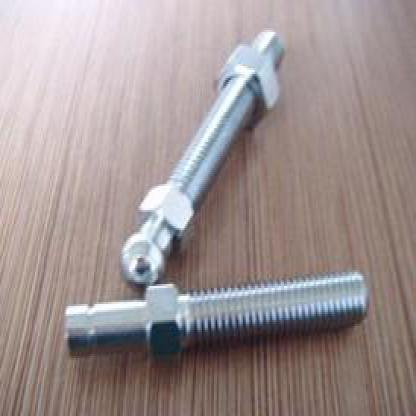FOD: (118, 27, 287, 283), (61, 269, 369, 367)
